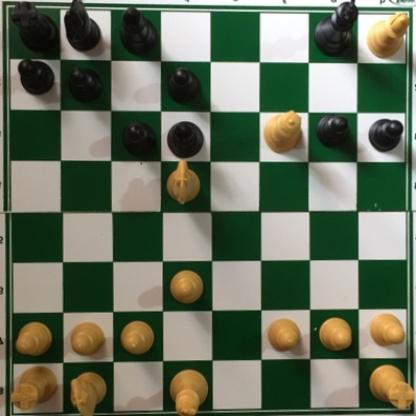black-bishop: (119, 1, 162, 57), (166, 119, 205, 162)
black-king: (311, 1, 362, 58)
black-knight: (63, 1, 101, 55)
black-pawn: (67, 64, 106, 104), (17, 57, 55, 97), (166, 66, 202, 106), (121, 120, 158, 158), (368, 117, 406, 153), (316, 114, 352, 149)
black-rook: (12, 1, 61, 54)
white-bishop: (363, 10, 411, 61)
white-king: (169, 366, 211, 416)
white-knight: (69, 369, 109, 416), (167, 154, 204, 202)
white-pawn: (367, 308, 408, 348), (167, 267, 207, 308), (117, 313, 155, 356), (16, 319, 56, 358), (316, 315, 357, 353), (69, 320, 107, 359), (266, 317, 305, 352)
white-queen: (263, 109, 304, 153)
white-rook: (11, 361, 62, 411), (372, 361, 415, 411)
